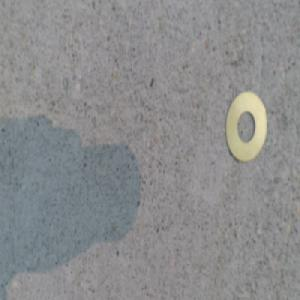Washer: (222, 91, 266, 166)
